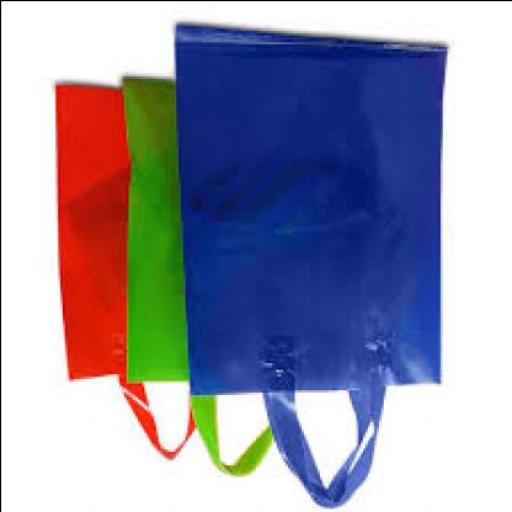plastic: (170, 23, 444, 510), (118, 77, 278, 478), (52, 84, 194, 462)
